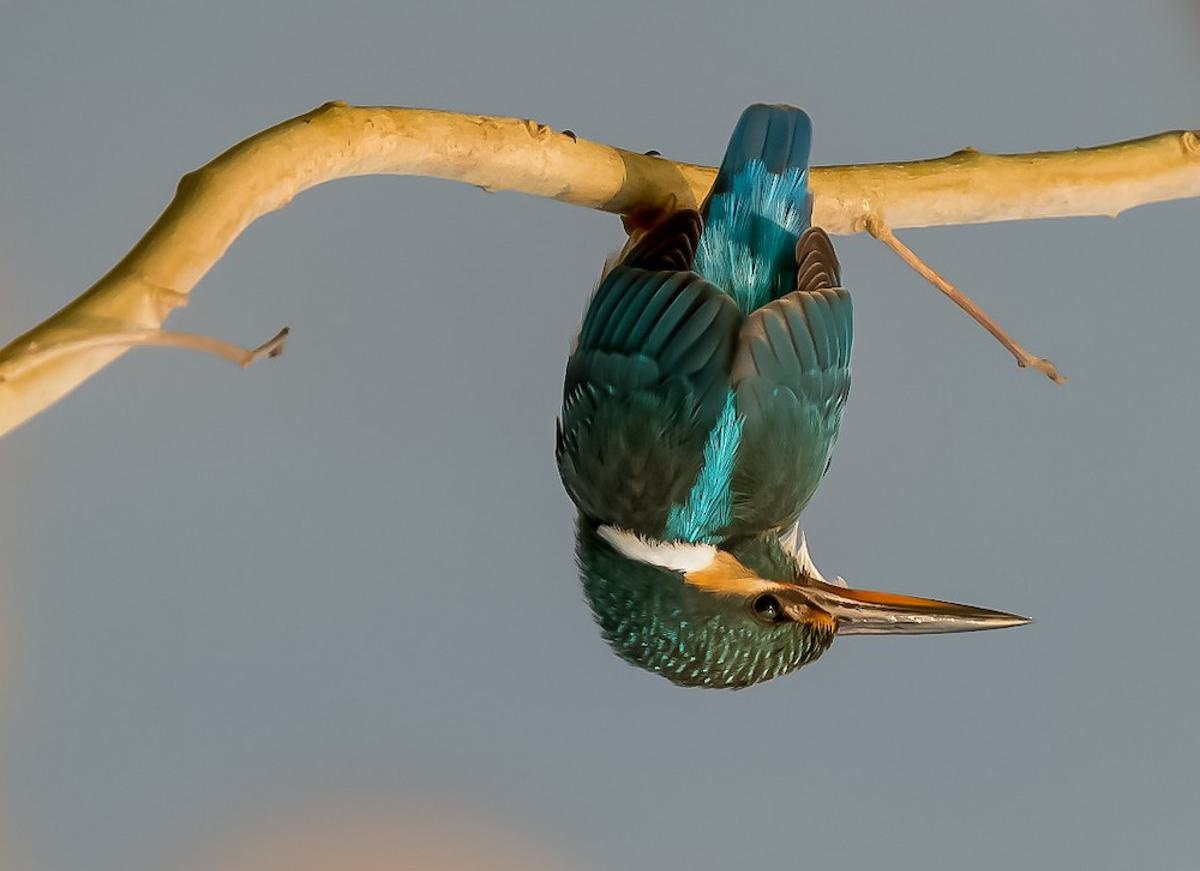kingfisher: (548, 75, 1047, 698)
